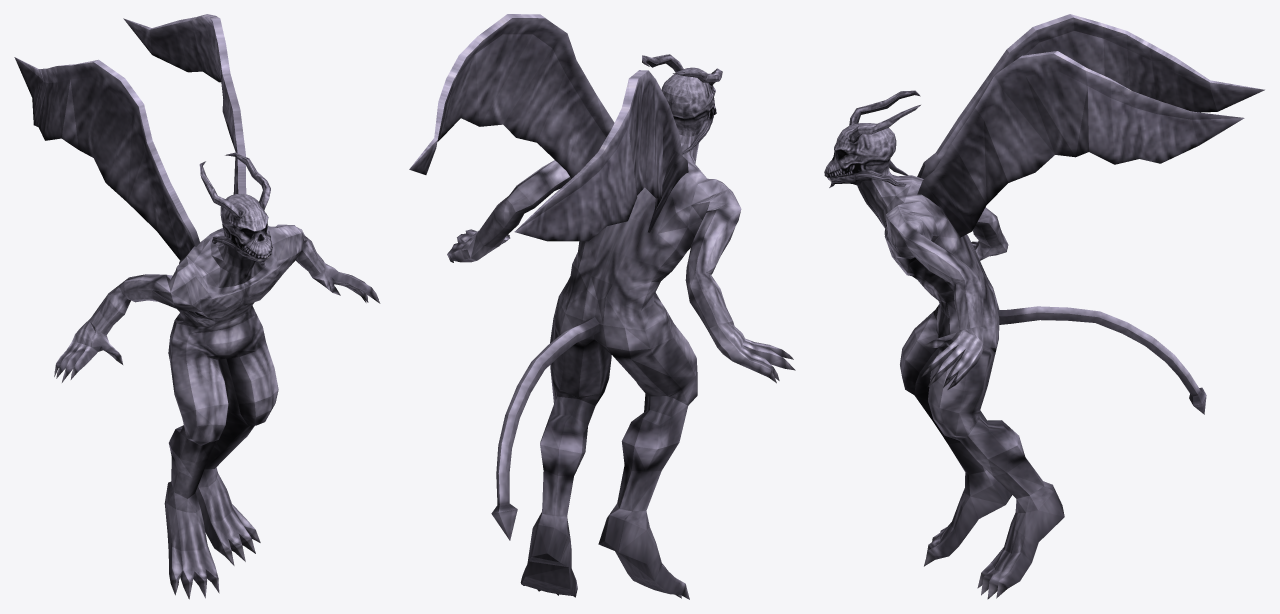
The model's file is Night Fiend.fbx.
The picture shows the model from 3 angles, left to right: view 1: azimuth 30°, elevation 25°; view 2: azimuth 150°, elevation 25°; view 3: azimuth 270°, elevation 25°; orthographic projection. The views are drawn at different scales.
Visible parts, largest first — view 1: Body, Wings; view 2: Body, Wings; view 3: Body, Wings.
Part boxes in pixels (x1,y1,x2,y2): Body: (54,152,380,599); Wings: (14,14,246,260); Body: (447,54,795,599); Wings: (409,14,688,241); Body: (824,90,1206,599); Wings: (917,14,1264,237).
Bounding box in the file's own units: 1177 × 1925 × 1406.
Materials: 1 (1 with a texture image).
